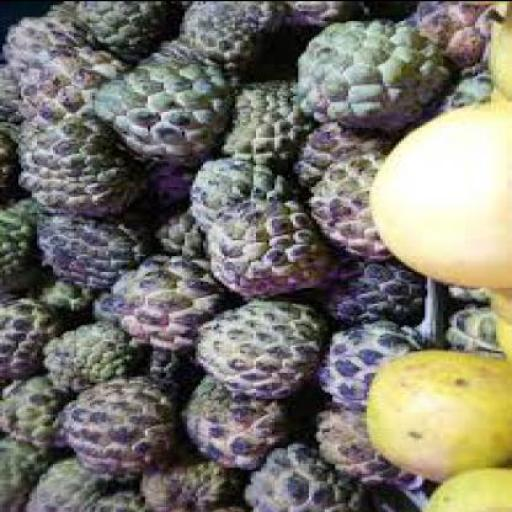biodegradable: (366, 99, 510, 286), (362, 344, 509, 481), (293, 14, 445, 132), (190, 295, 320, 393), (95, 52, 216, 156), (90, 251, 214, 346), (206, 199, 327, 293), (22, 115, 137, 211), (55, 378, 171, 472), (176, 374, 288, 467), (309, 312, 415, 403), (304, 142, 388, 248), (309, 406, 422, 484), (234, 441, 359, 510), (34, 210, 146, 286), (312, 257, 424, 328), (219, 75, 309, 159), (187, 156, 295, 226), (180, 1, 288, 67), (13, 59, 105, 131), (55, 2, 175, 56), (22, 456, 140, 510), (39, 326, 127, 388), (417, 1, 490, 69), (6, 15, 84, 77), (134, 462, 233, 510), (0, 288, 50, 380), (0, 193, 46, 292), (0, 373, 66, 438), (417, 466, 510, 510), (0, 434, 46, 511), (140, 154, 192, 215), (482, 1, 511, 100), (440, 306, 494, 352), (150, 211, 206, 255), (0, 108, 25, 206), (482, 280, 510, 362), (34, 271, 84, 316), (129, 346, 185, 385), (287, 1, 368, 26)
